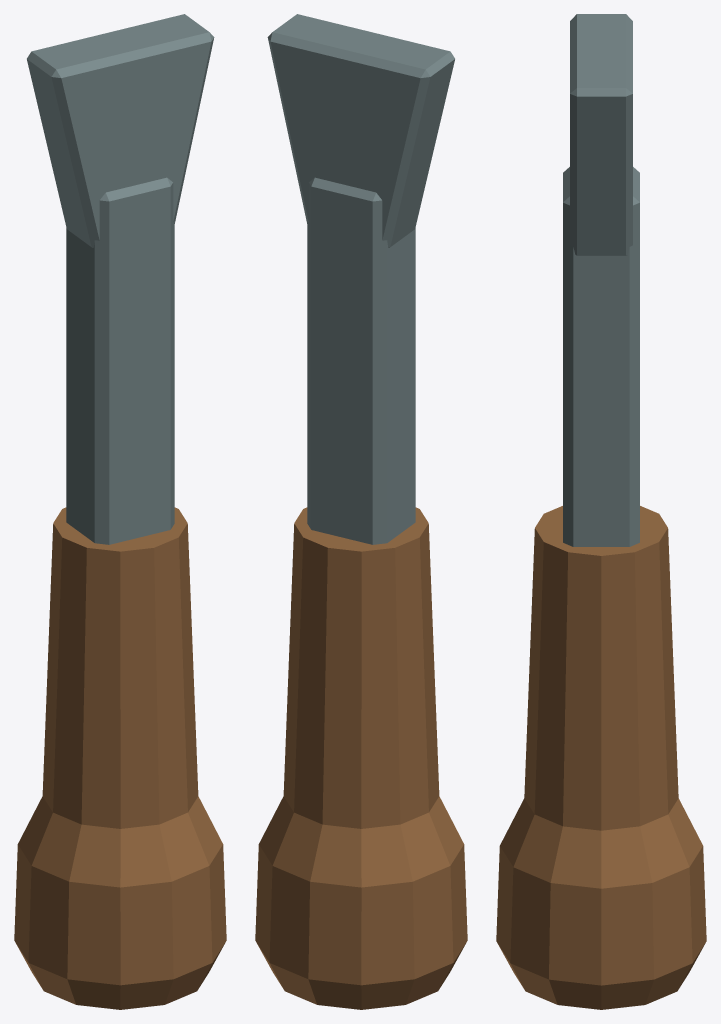
Rendered from HAND_CHISEL.lo.glb.
3 views of the same model, side by side, from view 1: azimuth 30°, elevation 25°; view 2: azimuth 150°, elevation 25°; view 3: azimuth 270°, elevation 25° (orthographic).
Visible parts, largest first — view 1: Body_Mesh; view 2: Body_Mesh; view 3: Body_Mesh.
Boxes of the visible parts, x1,y1,x2,y2 form: Body_Mesh: [14, 14, 226, 1009]; Body_Mesh: [255, 14, 467, 1009]; Body_Mesh: [496, 14, 706, 1009].
Size of the model in its own units: 0.06 by 0.29 by 0.06.
1 material, 1 textured.
